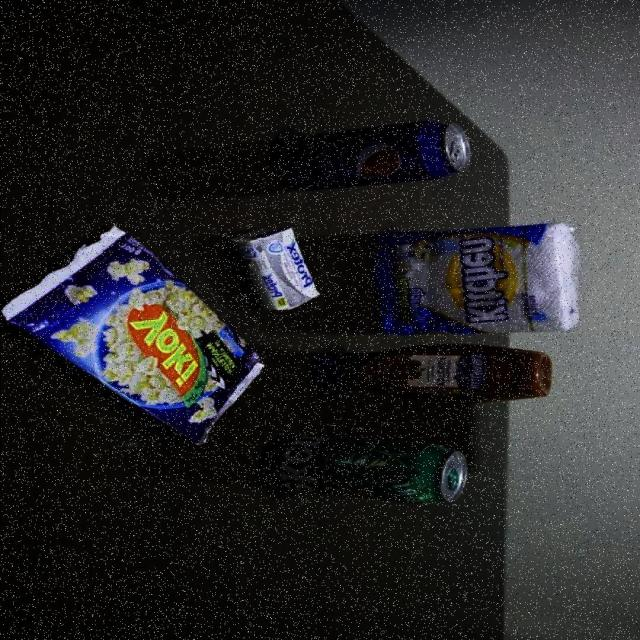BeerCan: (257, 432, 469, 506)
Ketchup: (308, 342, 554, 407)
Napkin: (368, 221, 581, 336)
Popcorn: (0, 223, 264, 444)
Soap: (227, 225, 319, 311)
SodaCan: (270, 119, 474, 193)
